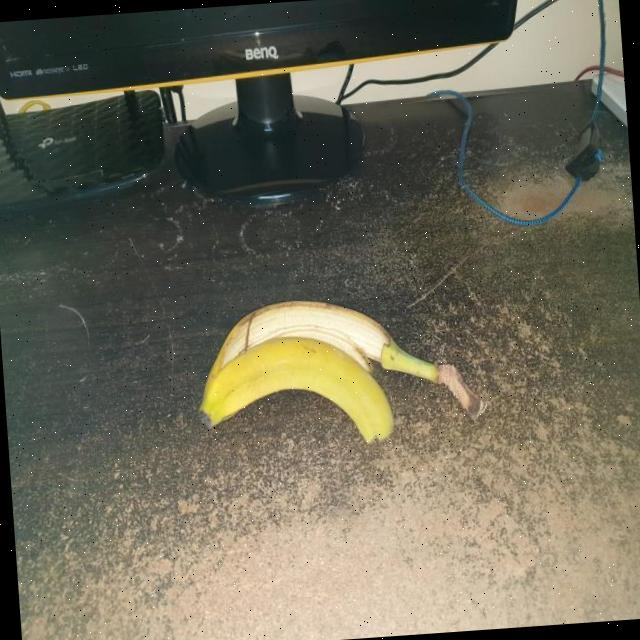banana-peel: (190, 285, 488, 455)
